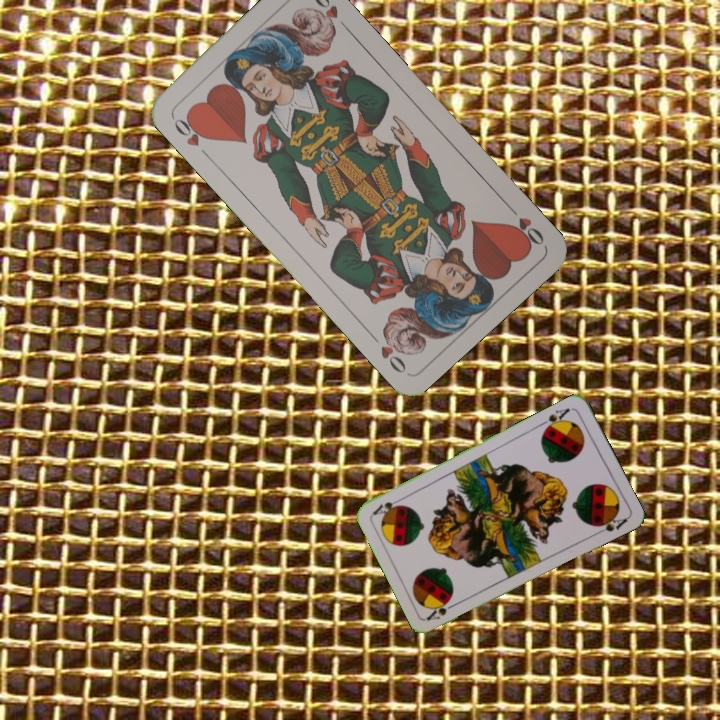HO: (502, 200, 547, 251), (169, 110, 212, 161)
SA: (536, 404, 573, 434), (423, 596, 461, 623)
